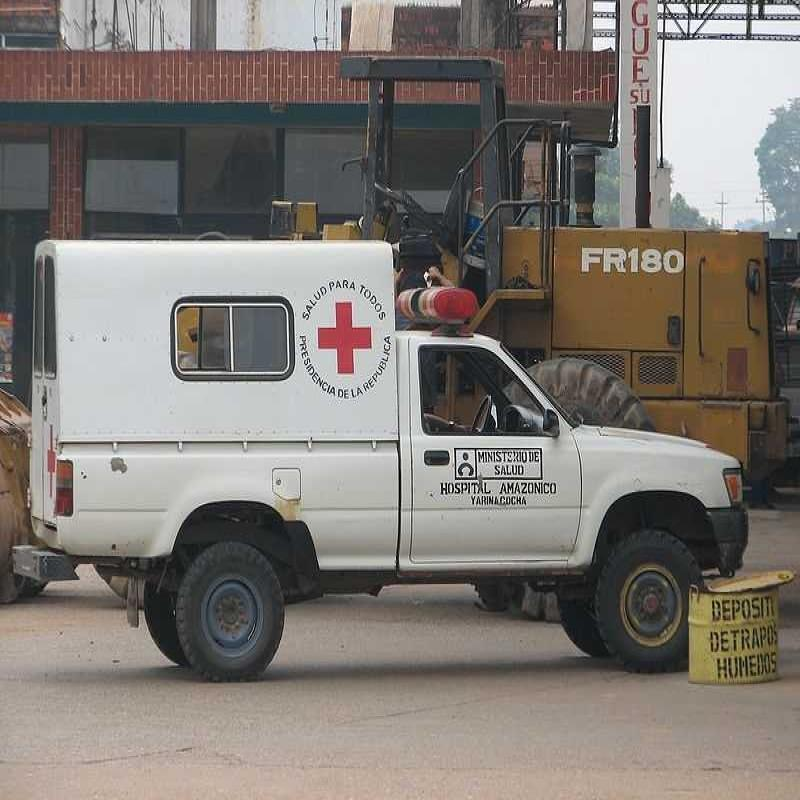AmbulanceSiren: (399, 272, 482, 331)
